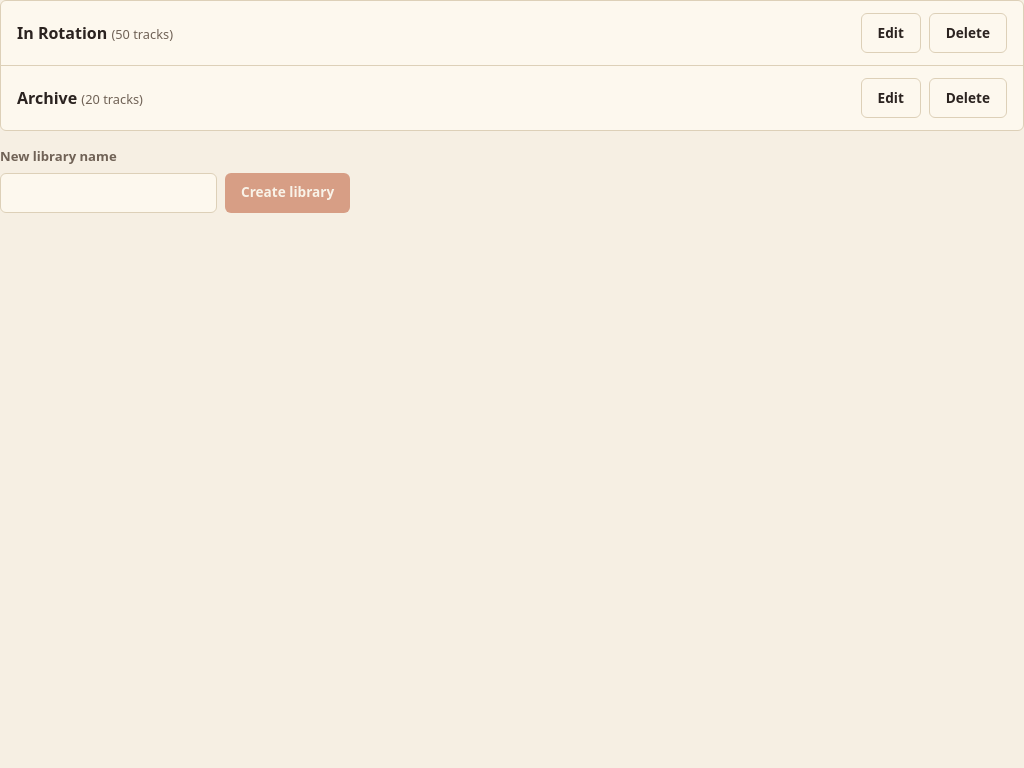
Feature: Catalog selection toolbar and Libraries tab › Scenario: libraries tab › keeps the 409 dependentMediaCount delete dialog
The image size is (1024, 768).
Click the button with aria-label "Delete In Rotation" at (968, 33), box [929, 13, 1007, 53]
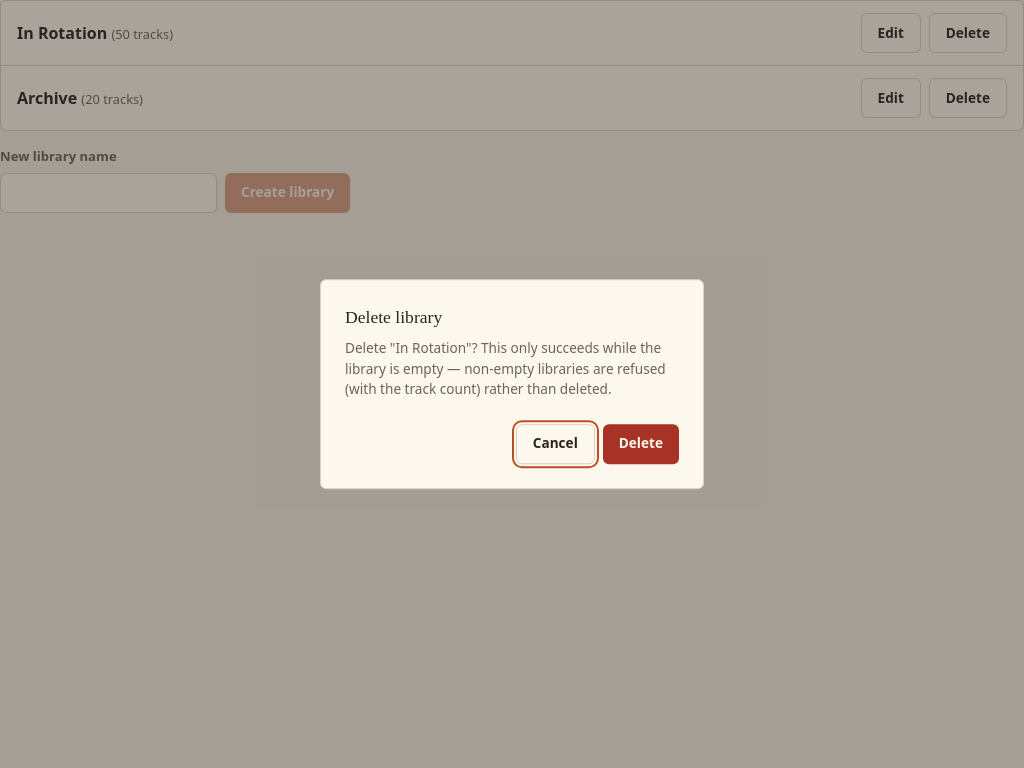
Click the button "Delete" at (641, 444), box [603, 424, 679, 464]
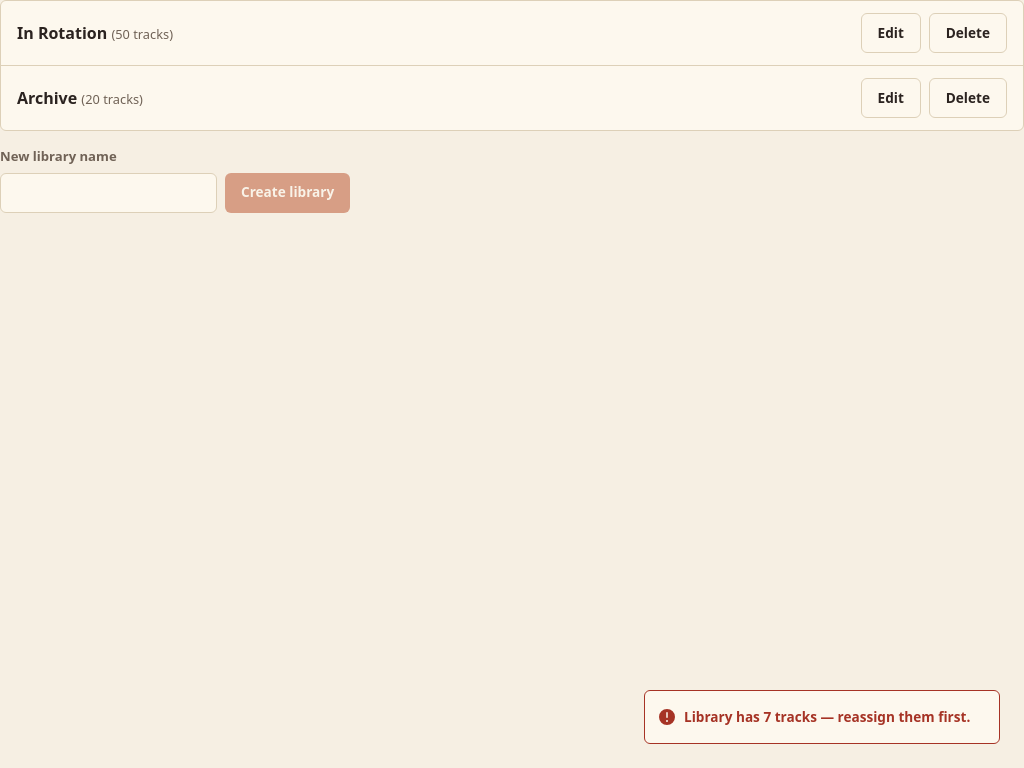
Expected: the text "Library has 7 tracks — reassign them first." is shown, [684, 707, 970, 727]
